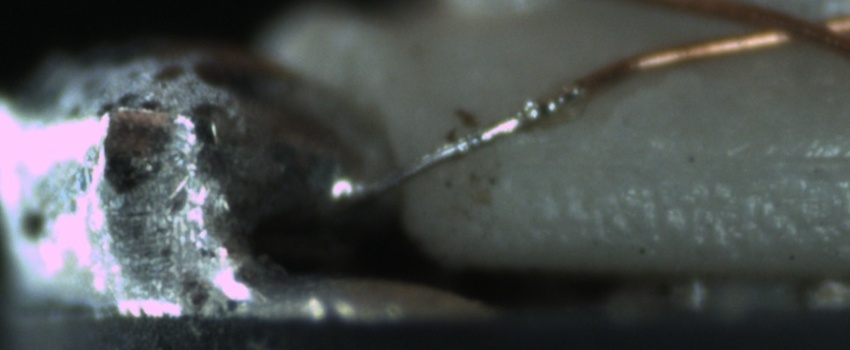CL: (729, 6, 850, 54)
DL: (544, 136, 850, 200)
TS: (343, 85, 582, 202)
TTCW: (314, 53, 659, 203)
